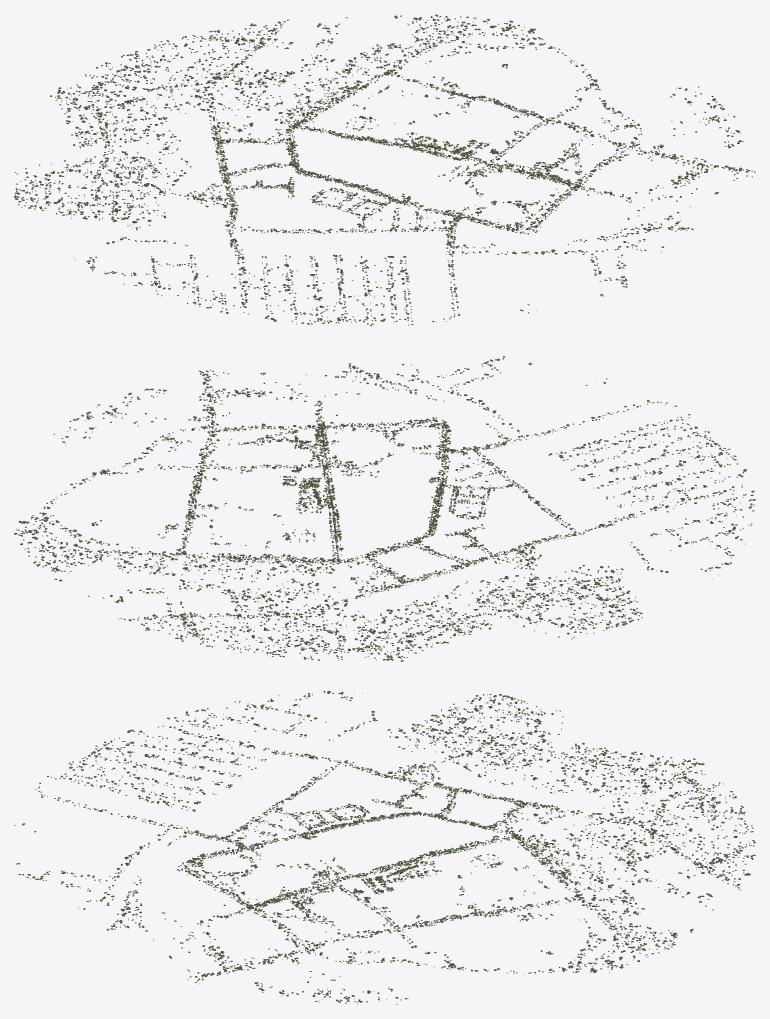
File: accor_backdrop_part2.glb
3 renders of one model, top to bottom at view 1: azimuth 30°, elevation 25°; view 2: azimuth 150°, elevation 25°; view 3: azimuth 270°, elevation 25°, orthographic.
Parts seen in each view (by area): view 1: bg_trees_joined_s14, bg_trees_joined_s13, bg_trees_joined_s15, bg_trees_joined_s11, bg_trees_joined_s08, bg_trees_joined_s09, bg_trees_joined_s12, bg_trees_joined_s10, bg_trees_joined_s03, bg_trees_joined_s07, bg_trees_joined_s01, bg_trees_joined_s06 (+4 smaller); view 2: bg_trees_joined_s14, bg_trees_joined_s13, bg_trees_joined_s15, bg_trees_joined_s11, bg_trees_joined_s08, bg_trees_joined_s09, bg_trees_joined_s12, bg_trees_joined_s03, bg_trees_joined_s10, bg_trees_joined_s07, bg_trees_joined_s06, bg_trees_joined_s01 (+4 smaller); view 3: bg_trees_joined_s14, bg_trees_joined_s13, bg_trees_joined_s15, bg_trees_joined_s11, bg_trees_joined_s08, bg_trees_joined_s09, bg_trees_joined_s12, bg_trees_joined_s10, bg_trees_joined_s03, bg_trees_joined_s07, bg_trees_joined_s01, bg_trees_joined_s06 (+4 smaller).
Boxes of the visible parts, x1,y1,x2,y2 form: bg_trees_joined_s14: (50, 34, 287, 149); bg_trees_joined_s13: (200, 14, 476, 107); bg_trees_joined_s15: (14, 132, 227, 230); bg_trees_joined_s11: (553, 93, 755, 201); bg_trees_joined_s08: (73, 208, 318, 321); bg_trees_joined_s09: (292, 235, 536, 326); bg_trees_joined_s12: (434, 19, 698, 129); bg_trees_joined_s10: (490, 189, 693, 296); bg_trees_joined_s03: (432, 131, 557, 181); bg_trees_joined_s07: (211, 152, 331, 208); bg_trees_joined_s01: (344, 187, 457, 238); bg_trees_joined_s06: (215, 107, 339, 160); bg_trees_joined_s14: (200, 574, 464, 661); bg_trees_joined_s13: (24, 525, 294, 641); bg_trees_joined_s15: (438, 545, 642, 639); bg_trees_joined_s11: (69, 369, 336, 459); bg_trees_joined_s08: (534, 469, 755, 579); bg_trees_joined_s09: (486, 378, 738, 481); bg_trees_joined_s12: (14, 431, 230, 544); bg_trees_joined_s03: (236, 434, 362, 489); bg_trees_joined_s10: (306, 356, 532, 434); bg_trees_joined_s07: (406, 514, 533, 578); bg_trees_joined_s06: (297, 535, 427, 583); bg_trees_joined_s01: (428, 446, 527, 496); bg_trees_joined_s14: (516, 749, 755, 850); bg_trees_joined_s13: (509, 846, 755, 957); bg_trees_joined_s15: (387, 694, 605, 786); bg_trees_joined_s11: (168, 899, 383, 1003); bg_trees_joined_s08: (127, 690, 382, 780); bg_trees_joined_s09: (14, 737, 232, 843); bg_trees_joined_s12: (383, 899, 639, 1004); bg_trees_joined_s10: (16, 843, 248, 941); bg_trees_joined_s03: (270, 865, 383, 916); bg_trees_joined_s07: (383, 773, 503, 820); bg_trees_joined_s01: (210, 802, 345, 844); bg_trees_joined_s06: (447, 797, 555, 847).
Size of the model in its own units: 2993 by 66.31 by 2993.
Materials: 1 (1 with a texture image).
